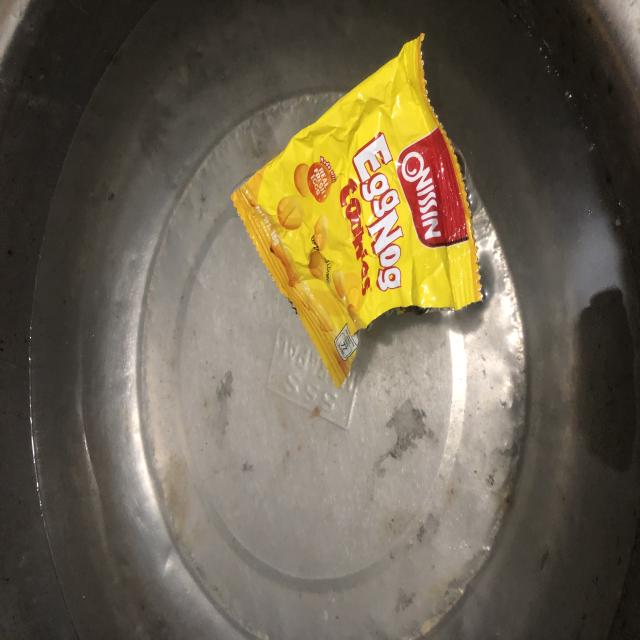Plastic Wrapper: (232, 33, 483, 384)
